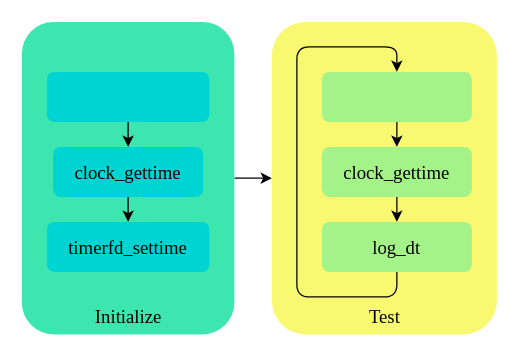
Image size: 518x355. Some labels were removed from this diagram. The box of each missing label's shape, as (x1, y1, x2, y2) in pixels:
read: (321, 71, 471, 121)
timerfd_create: (46, 71, 209, 121)
